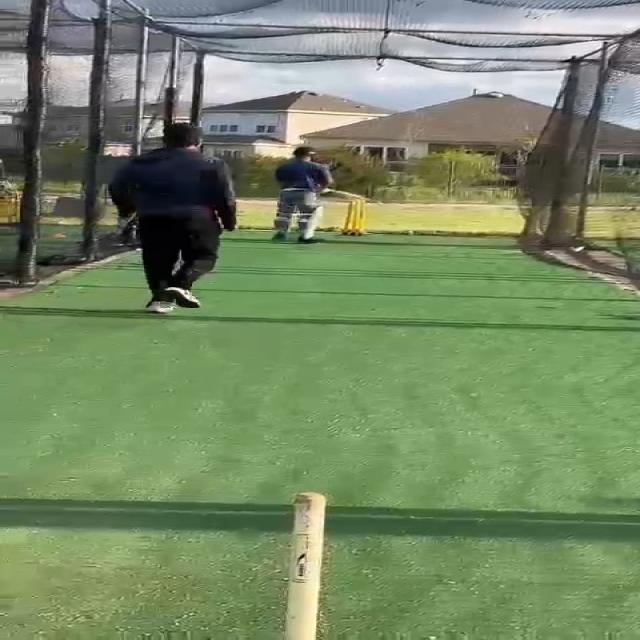batsman: (268, 146, 368, 244)
